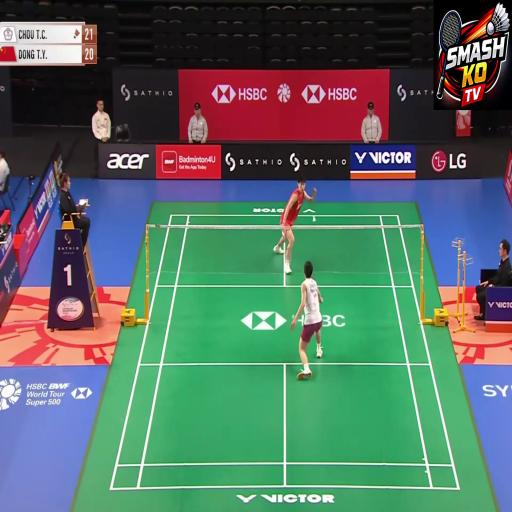player: (257, 160, 309, 268), (293, 268, 337, 387)
